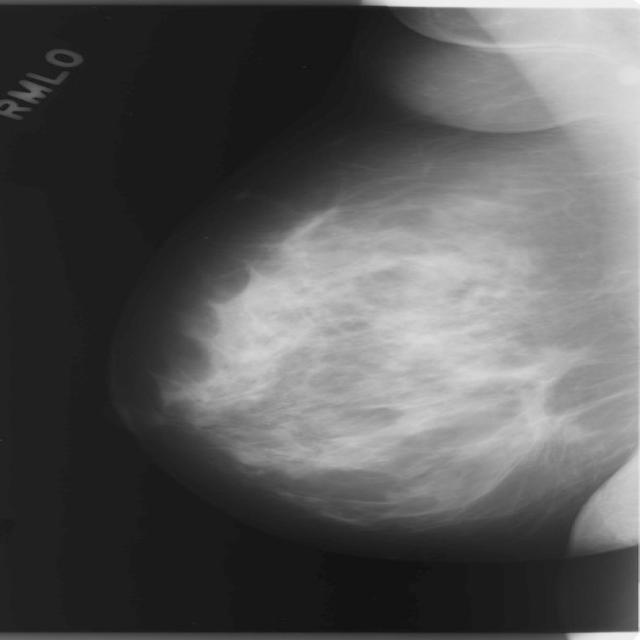tumour: (471, 347, 590, 415)
